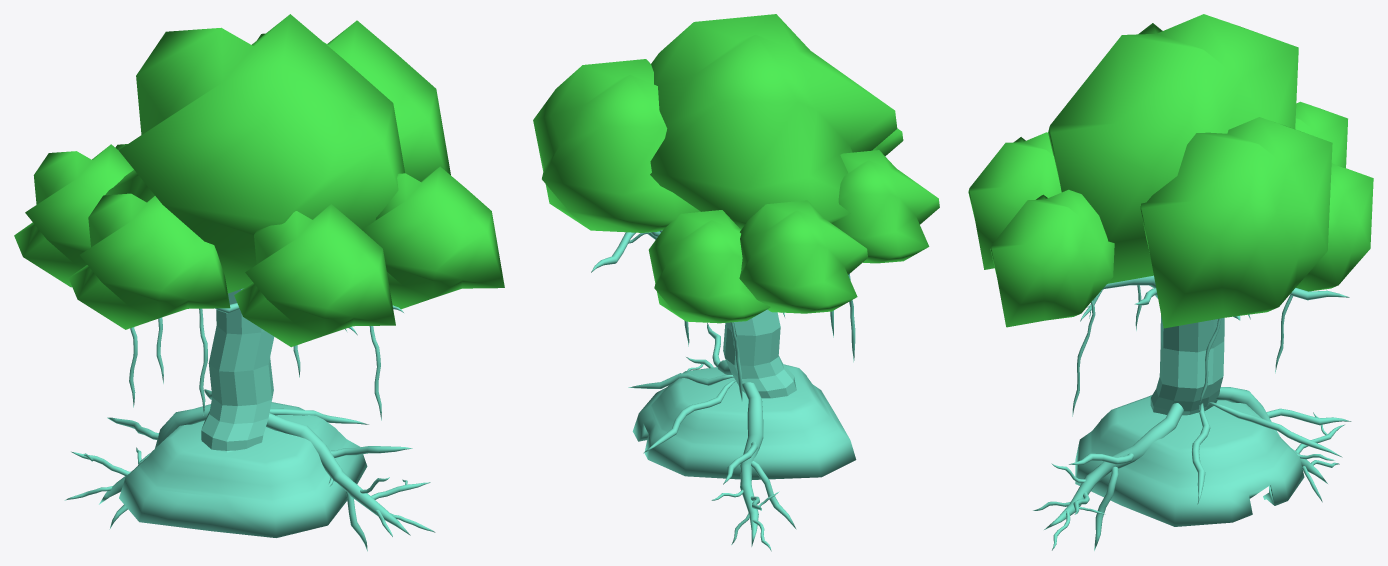
The model's file is Arvore com Caverna.fbx.
3 renders of one model, left to right at view 1: azimuth 30°, elevation 25°; view 2: azimuth 150°, elevation 25°; view 3: azimuth 270°, elevation 25°, orthographic. The views are drawn at different scales.
Visible parts, largest first — view 1: Icosphere.016, Pedra 4 - Decall.001, Icosphere.018, Icosphere.013, Icosphere.015, Icosphere.017, Tronco oco.001, Icosphere.014, Raiz.003, Raiz.004; view 2: Icosphere.016, Icosphere.014, Pedra 4 - Decall.001, Icosphere.017, Icosphere.019, Icosphere.013, Tronco oco.001, Raiz.004, Galho.008, Galho.007, Raiz.003, Raiz 2.001; view 3: Icosphere.016, Icosphere.014, Pedra 4 - Decall.001, Icosphere.015, Icosphere.018, Tronco oco.001, Icosphere.019, Raiz.003, Raiz.004, Icosphere.017, Galho.008, Galho.007 (+1 smaller).
Part boxes in pixels (bbox=[...]): Icosphere.016: bbox=[105, 14, 404, 293]; Pedra 4 - Decall.001: bbox=[119, 402, 367, 537]; Icosphere.018: bbox=[234, 204, 395, 347]; Icosphere.013: bbox=[68, 193, 230, 329]; Icosphere.015: bbox=[362, 166, 504, 309]; Icosphere.017: bbox=[14, 144, 133, 287]; Tronco oco.001: bbox=[201, 288, 274, 452]; Icosphere.014: bbox=[257, 20, 450, 181]; Raiz.003: bbox=[266, 413, 435, 551]; Raiz.004: bbox=[64, 404, 210, 529]; Icosphere.016: bbox=[650, 14, 897, 229]; Icosphere.014: bbox=[533, 59, 700, 232]; Pedra 4 - Decall.001: bbox=[632, 364, 856, 479]; Icosphere.017: bbox=[739, 200, 867, 313]; Icosphere.019: bbox=[648, 210, 770, 323]; Icosphere.013: bbox=[831, 150, 939, 263]; Tronco oco.001: bbox=[723, 309, 796, 398]; Raiz.004: bbox=[711, 382, 796, 551]; Galho.008: bbox=[643, 380, 736, 453]; Galho.007: bbox=[628, 373, 733, 388]; Raiz.003: bbox=[686, 323, 732, 374]; Raiz 2.001: bbox=[591, 231, 660, 272]; Icosphere.016: bbox=[1048, 14, 1298, 283]; Icosphere.014: bbox=[1140, 117, 1332, 328]; Pedra 4 - Decall.001: bbox=[1075, 395, 1304, 526]; Icosphere.015: bbox=[990, 189, 1114, 327]; Icosphere.018: bbox=[968, 132, 1061, 269]; Tronco oco.001: bbox=[1150, 315, 1224, 415]; Icosphere.019: bbox=[1296, 163, 1373, 291]; Raiz.003: bbox=[1033, 403, 1183, 550]; Raiz.004: bbox=[1215, 387, 1351, 502]; Icosphere.017: bbox=[1295, 101, 1347, 167]; Galho.008: bbox=[1208, 402, 1342, 457]; Galho.007: bbox=[1192, 403, 1210, 504].
Size of the model in its own units: 4739 by 5908 by 4296.
